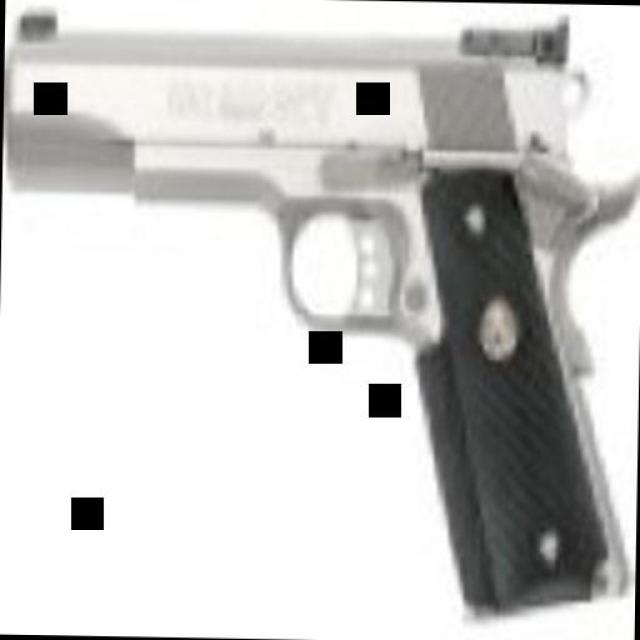gun: (1, 15, 631, 613)
